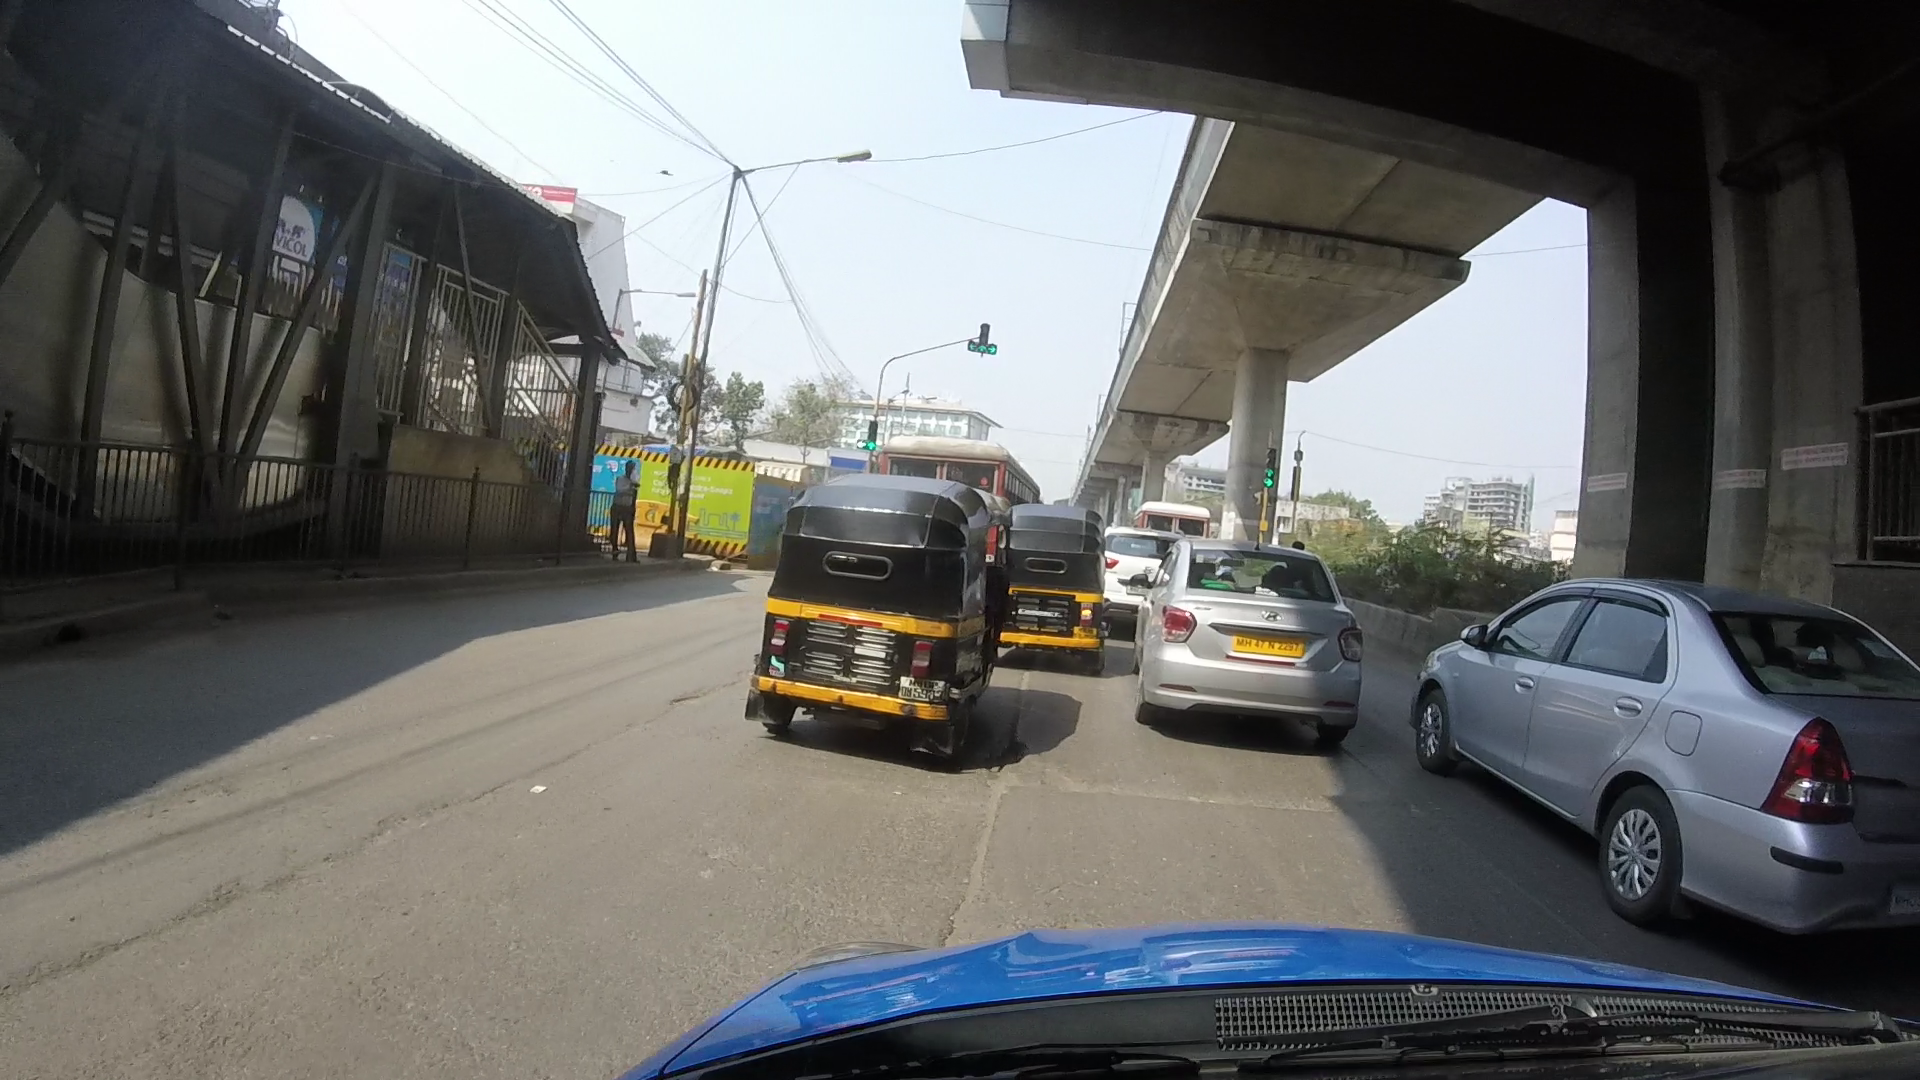car: (1414, 583, 1920, 949), (1137, 545, 1356, 736)
rickshaw: (764, 465, 1007, 760), (993, 504, 1105, 666)
